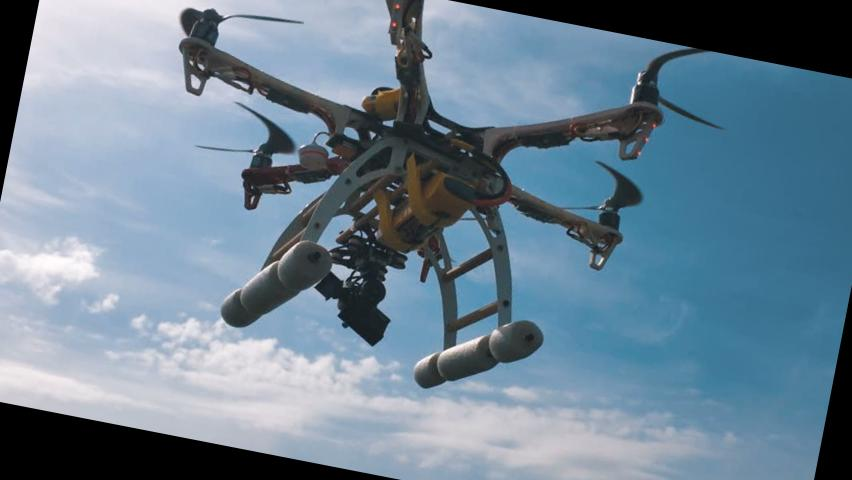drone: (124, 0, 705, 342)
